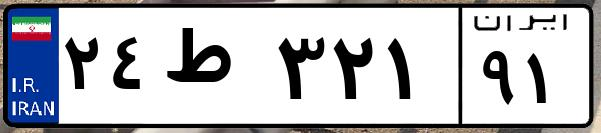1: (385, 28, 445, 110), (525, 38, 570, 115)
2: (330, 28, 385, 110), (57, 26, 110, 100)
3: (270, 28, 330, 110)
4: (110, 28, 158, 98)
9: (475, 38, 525, 113)
ط: (158, 20, 270, 120)
